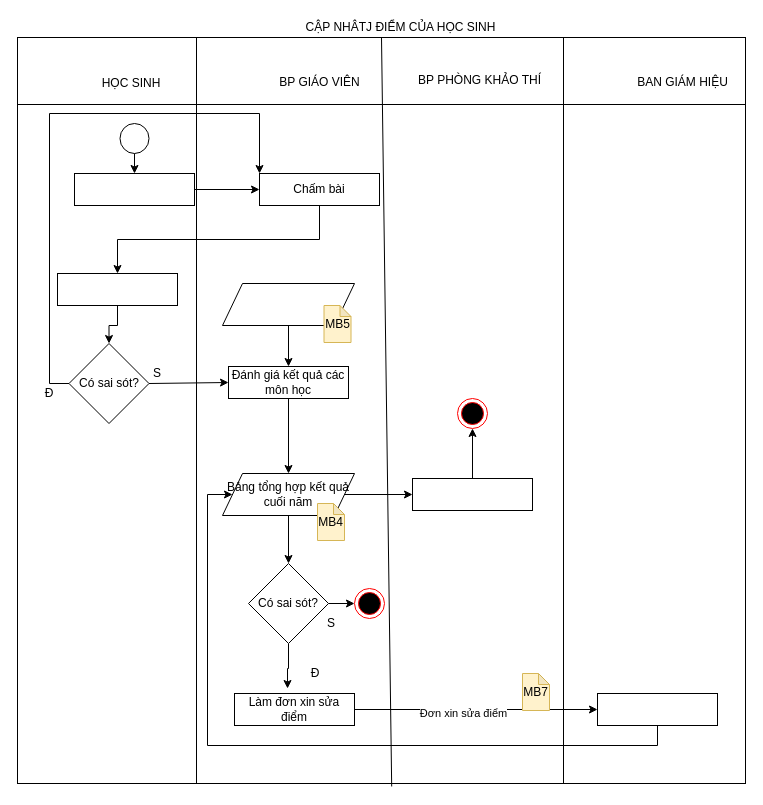
The diagram is 763 pixels wide and 805 high, and some of its shapes have lost their labels. Each missing label, with the box of its shape:
Bangr theo dõi quá trình học tập: (222, 282, 354, 326)
Kiểm tra lại bài thi: (56, 272, 178, 306)
Lưu trữ lên hệ thống: (412, 478, 532, 510)
Tham gia thi: (74, 172, 194, 206)
Xác nhận: (596, 692, 718, 726)
